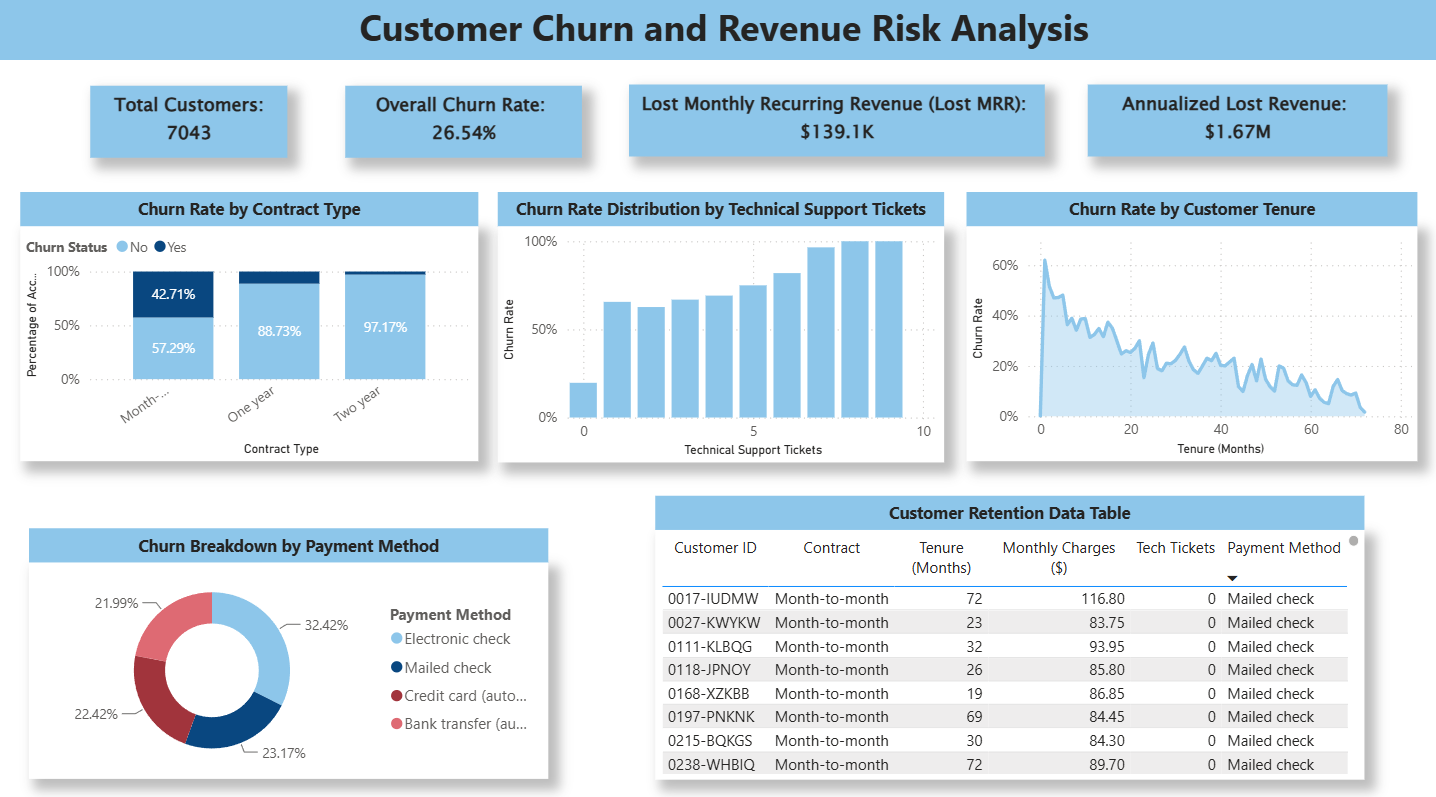

What the dashboard file says about the page in this screenshot:
{"tool":"powerbi","page":{"name":"Page 1","canvas":[1280,720],"ordinal":0},"visuals":[{"type":"textbox","box":[0,0,1280.2,55.8],"z":0},{"type":"textbox","box":[308.1,79.1,210.5,64],"z":1000},{"type":"textbox","box":[81.4,79.1,175.6,64],"z":2000},{"type":"textbox","box":[560.5,77.9,369.7,64.2],"z":3000},{"type":"textbox","box":[967.4,77.9,266.3,64],"z":4000},{"type":"donutChart","fields":{"Category":["Customer_Churn_Cleaned.payment_method"],"Y":["Sum(Customer_Churn_Cleaned.churn_flag)"]},"box":[26.7,502.3,461.6,193],"z":5000},{"type":"clusteredColumnChart","title":"Support Escalations Spike Churn Risk Above 60%","fields":{"Category":["Customer_Churn_Cleaned.numTechTickets"],"Y":["Avg(Customer_Churn_Cleaned.churn_flag)"]},"box":[443,203.5,396.5,210.5],"z":6000},{"type":"areaChart","title":"Churn Rate Declines as Customer Tenure Increases","fields":{"Category":["Customer_Churn_Cleaned.tenure"],"Y":["Avg(Customer_Churn_Cleaned.churn_flag)"]},"box":[860.5,202.3,401.2,210.5],"z":7000},{"type":"tableEx","fields":{"Values":["Customer_Churn_Cleaned.customer_id","Customer_Churn_Cleaned.contract","Customer_Churn_Cleaned.tenure","Customer_Churn_Cleaned.monthly_charges","Customer_Churn_Cleaned.numTechTickets","Customer_Churn_Cleaned.payment_method"]},"box":[583.7,473.3,630.2,222.1],"z":8000},{"type":"hundredPercentStackedColumnChart","title":"Month-to-Month Contracts Drive 42.7% Churn Rate","fields":{"Category":["01 Churn-Dataset.Contract"],"Series":["Customer_Churn_Cleaned.churn"],"Y":["CountNonNull(01 Churn-Dataset.customerID)"]},"box":[18.6,202.3,407,210.5],"z":9000},{"type":"textbox","box":[583.7,443,630.2,30.2],"z":10000},{"type":"textbox","box":[26.7,472.1,461.6,30.2],"z":11000},{"type":"textbox","box":[18.6,173.3,407,30.2],"z":12000},{"type":"textbox","box":[443,173.3,396.5,30.2],"z":13000},{"type":"textbox","box":[860.5,173.3,401.2,30.2],"z":14000}]}

Visuals, with their boxes in screenshot pixels (x1, y1, x2, y2), scaled from the page's 1280x720 canvas onto the 1436x797 screenshot:
textbox: {"x1": 0, "y1": 0, "x2": 1435, "y2": 62}
textbox: {"x1": 346, "y1": 88, "x2": 582, "y2": 158}
textbox: {"x1": 91, "y1": 88, "x2": 288, "y2": 158}
textbox: {"x1": 629, "y1": 86, "x2": 1044, "y2": 157}
textbox: {"x1": 1085, "y1": 86, "x2": 1384, "y2": 157}
donutChart - Customer_Churn_Cleaned.payment_method x Sum(Customer_Churn_Cleaned.churn_flag): {"x1": 30, "y1": 556, "x2": 548, "y2": 770}
"Support Escalations Spike Churn Risk Above 60%" clusteredColumnChart: {"x1": 497, "y1": 225, "x2": 942, "y2": 458}
"Churn Rate Declines as Customer Tenure Increases" areaChart: {"x1": 965, "y1": 224, "x2": 1415, "y2": 457}
tableEx - Customer_Churn_Cleaned.customer_id x Customer_Churn_Cleaned.contract: {"x1": 655, "y1": 524, "x2": 1362, "y2": 770}
"Month-to-Month Contracts Drive 42.7% Churn Rate" hundredPercentStackedColumnChart: {"x1": 21, "y1": 224, "x2": 477, "y2": 457}
textbox: {"x1": 655, "y1": 490, "x2": 1362, "y2": 524}
textbox: {"x1": 30, "y1": 523, "x2": 548, "y2": 556}
textbox: {"x1": 21, "y1": 192, "x2": 477, "y2": 225}
textbox: {"x1": 497, "y1": 192, "x2": 942, "y2": 225}
textbox: {"x1": 965, "y1": 192, "x2": 1415, "y2": 225}
